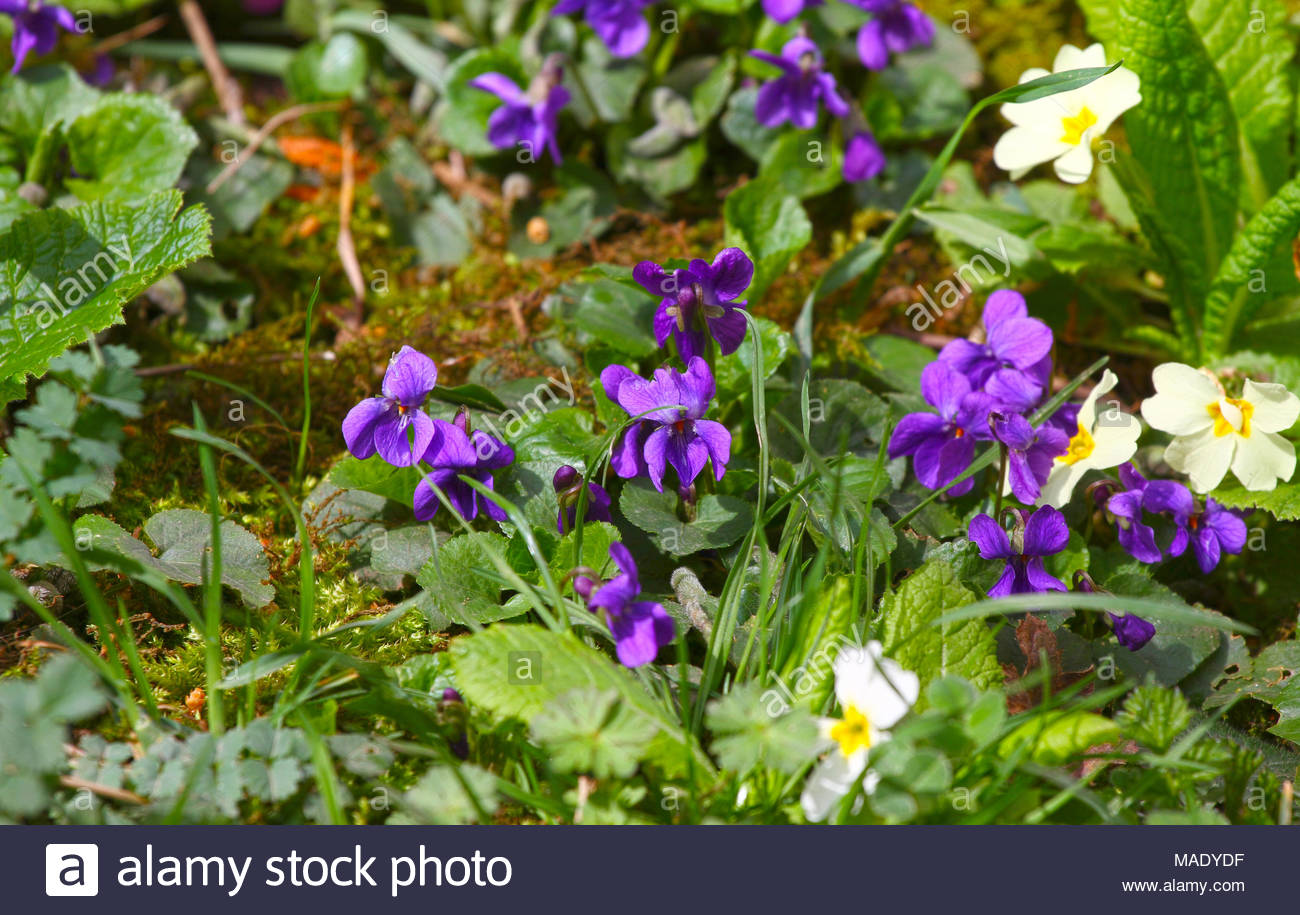violet: (935, 288, 1073, 412), (885, 362, 991, 506), (576, 542, 682, 679), (635, 247, 761, 360), (612, 368, 732, 475), (966, 505, 1078, 617), (352, 345, 445, 477), (750, 39, 850, 142), (471, 69, 565, 171), (986, 416, 1067, 511), (1100, 458, 1176, 558), (1173, 488, 1252, 578)
